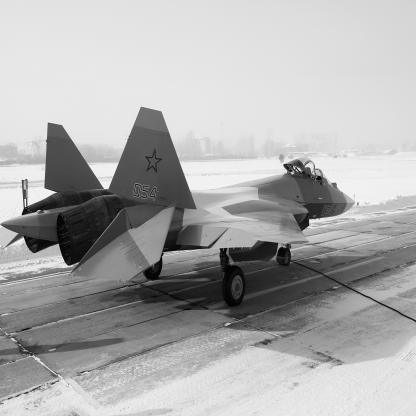Su57: (1, 107, 356, 307)
